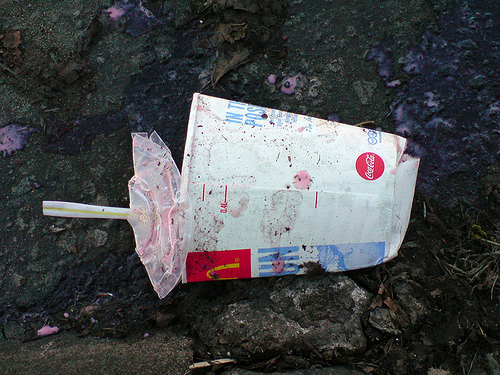litter: (39, 93, 419, 298)
